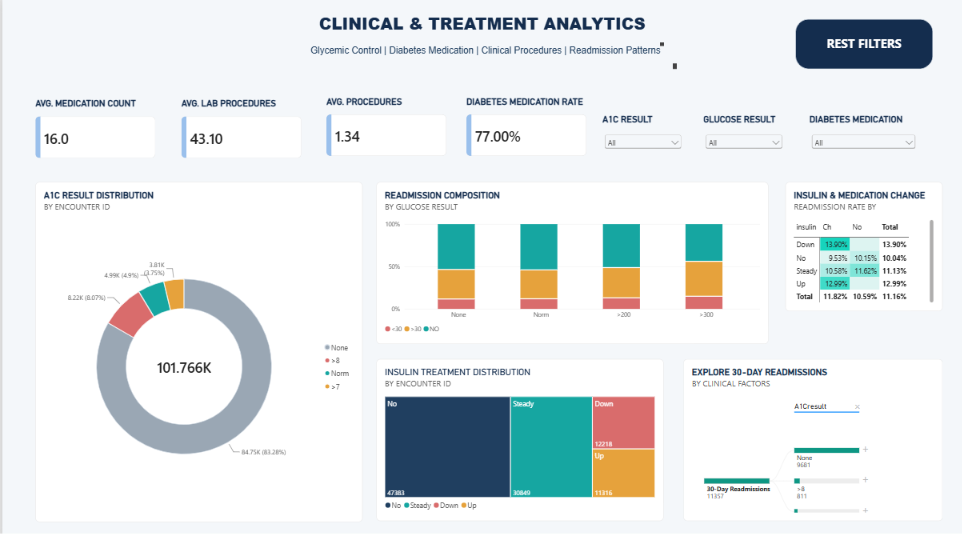

The dashboard page shown, as its layout file describes it:
{"tool":"powerbi","page":{"name":"04. Clinical & Treatment","canvas":[1920,1080],"ordinal":3},"visuals":[{"type":"textbox","title":"CLINICAL & TREATMENT ANALYTICS","box":[596.3,23.9,727,68.1],"z":0},{"type":"textbox","title":"Glycemic Control | Diabetes Medication | Clinical Procedures | Readmission Patterns","box":[615.8,90.4,732.5,47.9],"z":1000},{"type":"cardVisual","title":"AVG. MEDICATION COUNT","fields":{"Data":["Measure.Average Medication Count"]},"box":[66.3,195.1,240,120],"z":2000},{"type":"cardVisual","title":"AVG. LAB PROCEDURES","fields":{"Data":["Measure.Average Lab Procedures"]},"box":[357.1,195.1,240,120],"z":3000},{"type":"cardVisual","title":"AVG. PROCEDURES","fields":{"Data":["Measure.Average Procedures"]},"box":[647.9,191.4,240,120],"z":4000},{"type":"cardVisual","title":"DIABETES MEDICATION RATE","fields":{"Data":["Measure.Diabetes Medication Rate"]},"box":[927.6,191.4,240,120],"z":5000},{"type":"donutChart","title":"A1C RESULT DISTRIBUTION","fields":{"Category":["Fact_Encounters.A1Cresult"],"Y":["CountNonNull(Fact_Encounters.encounter_id)"]},"box":[66,364,654,680],"z":6000},{"type":"hundredPercentStackedColumnChart","title":"READMISSION COMPOSITION ","fields":{"Category":["Fact_Encounters.Glu_ResultDisplay"],"Series":["Fact_Encounters.readmitted"],"Y":["CountNonNull(Fact_Encounters.encounter_id)"]},"box":[748,364,784,324],"z":7000},{"type":"treemap","title":"INSULIN TREATMENT DISTRIBUTION","fields":{"Group":["Fact_Encounters.insulin"],"Values":["CountNonNull(Fact_Encounters.encounter_id)"]},"box":[748,718,574,324],"z":8000},{"type":"pivotTable","title":" INSULIN & MEDICATION CHANGE","fields":{"Columns":["Fact_Encounters.change"],"Rows":["Fact_Encounters.insulin"],"Values":["Measure.30-Day Readmission Rate"]},"box":[1566,364,314,258],"z":9000},{"type":"decompositionTreeVisual","title":"EXPLORE 30-DAY READMISSIONS","fields":{"Analyze":["Measure.30-Day Readmissions"],"ExplainBy":["Fact_Encounters.A1Cresult","Fact_Encounters.change","Fact_Encounters.diabetesMed","Fact_Encounters.Glu_ResultDisplay","Fact_Encounters.insulin"]},"box":[1362,718,518,324],"z":10000},{"type":"slicer","title":"A1C RESULT","fields":{"Values":["Fact_Encounters.A1Cresult"]},"box":[1200,228.2,162.7,83.3],"z":11000},{"type":"slicer","title":"GLUCOSE RESULT","fields":{"Values":["Fact_Encounters.Glu_ResultDisplay"]},"box":[1402.5,228.2,162.7,83.3],"z":12000},{"type":"slicer","title":"DIABETES MEDICATION","fields":{"Values":["Fact_Encounters.diabetesMed"]},"box":[1614.1,228.2,217.2,82.8],"z":13000},{"type":"actionButton","title":"RESET FILTERS","box":[1585,37.5,275,100],"z":14000}]}

Visuals, with their boxes in screenshot pixels (x1, y1, x2, y2), scaled from the page's 1920x1080 canvas onto the 962x534 screenshot:
"CLINICAL & TREATMENT ANALYTICS" textbox: detection(299, 12, 663, 45)
"Glycemic Control | Diabetes Medication | Clinical Procedures | Readmission Patterns" textbox: detection(309, 45, 676, 68)
"AVG. MEDICATION COUNT" cardVisual: detection(33, 96, 153, 156)
"AVG. LAB PROCEDURES" cardVisual: detection(179, 96, 299, 156)
"AVG. PROCEDURES" cardVisual: detection(325, 95, 445, 154)
"DIABETES MEDICATION RATE" cardVisual: detection(465, 95, 585, 154)
"A1C RESULT DISTRIBUTION" donutChart: detection(33, 180, 361, 516)
"READMISSION COMPOSITION " hundredPercentStackedColumnChart: detection(375, 180, 768, 340)
"INSULIN TREATMENT DISTRIBUTION" treemap: detection(375, 355, 662, 515)
" INSULIN & MEDICATION CHANGE" pivotTable: detection(785, 180, 942, 308)
"EXPLORE 30-DAY READMISSIONS" decompositionTreeVisual: detection(682, 355, 942, 515)
"A1C RESULT" slicer: detection(601, 113, 683, 154)
"GLUCOSE RESULT" slicer: detection(703, 113, 784, 154)
"DIABETES MEDICATION" slicer: detection(809, 113, 918, 154)
"RESET FILTERS" actionButton: detection(794, 19, 932, 68)
